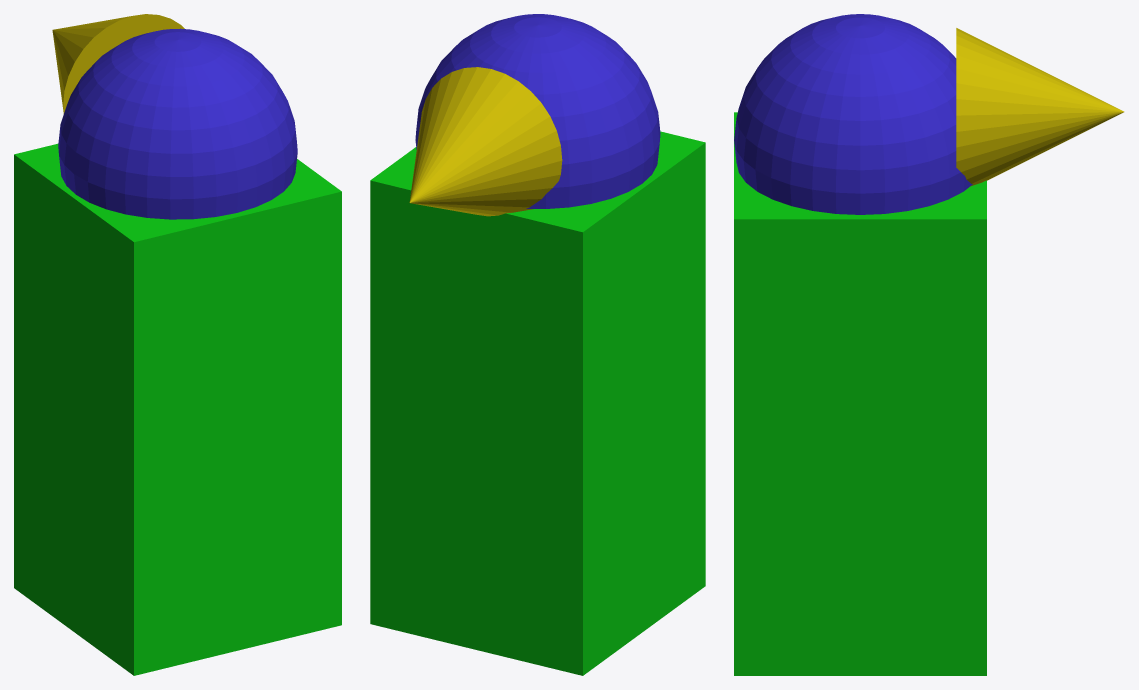
File: player.obj
The picture shows the model from 3 angles, left to right: view 1: azimuth 30°, elevation 25°; view 2: azimuth 150°, elevation 25°; view 3: azimuth 270°, elevation 25°; orthographic projection. The views are drawn at different scales.
Parts seen in each view (by area): view 1: Cube.001, Cube, Sphere, Cone; view 2: Cube.001, Cube, Sphere, Cone; view 3: Cube.001, Cube, Sphere, Cone.
Boxes of the visible parts, <box> form: Cube.001: <box>14,143,341,459</box>; Cube: <box>14,372,341,675</box>; Sphere: <box>58,28,297,219</box>; Cone: <box>52,14,184,113</box>; Cube.001: <box>370,131,705,453</box>; Cube: <box>370,364,705,675</box>; Sphere: <box>415,14,660,208</box>; Cone: <box>409,67,562,216</box>; Cube.001: <box>734,112,986,446</box>; Cube: <box>734,447,986,675</box>; Sphere: <box>734,14,972,214</box>; Cone: <box>956,28,1124,185</box>.
Size of the model in its own units: 1.5 by 3.91 by 2.32.
